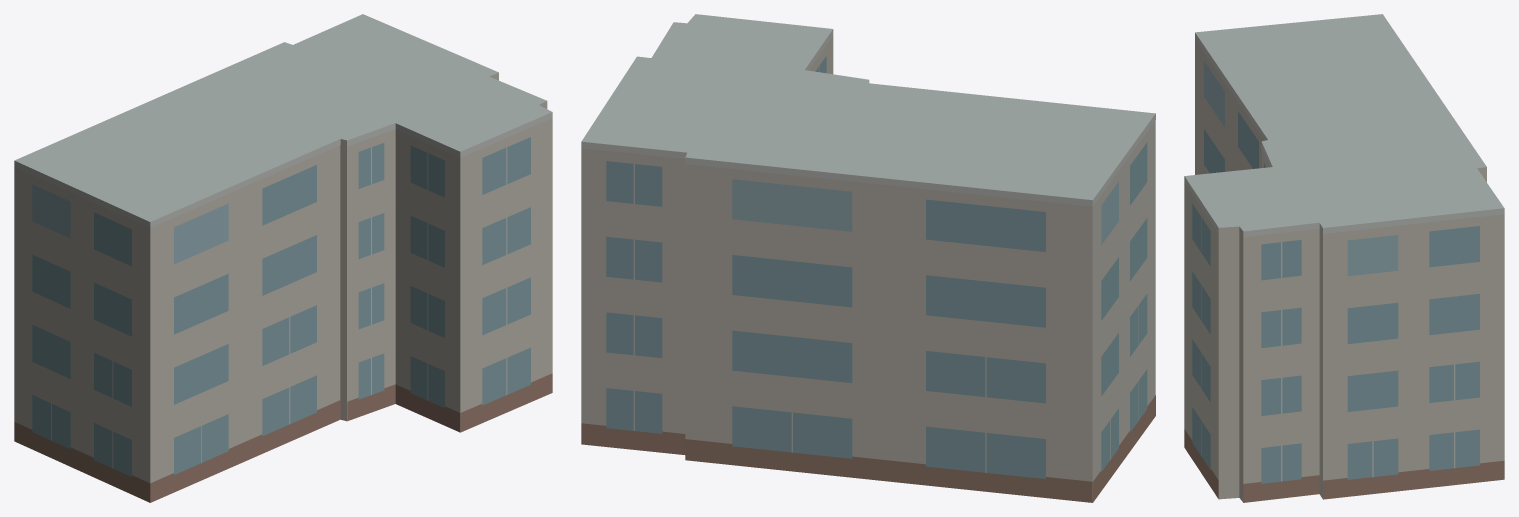
The model's file is survey-upis-32657748.glb.
The picture shows the model from 3 angles, left to right: view 1: azimuth 30°, elevation 25°; view 2: azimuth 150°, elevation 25°; view 3: azimuth 270°, elevation 25°; orthographic projection. The views are drawn at different scales.
Parts seen in each view (by area): view 1: survey-upis-32657748.tmp; view 2: survey-upis-32657748.tmp; view 3: survey-upis-32657748.tmp.
Boxes of the visible parts, bbox=[...] form: survey-upis-32657748.tmp: bbox=[14, 14, 552, 502]; survey-upis-32657748.tmp: bbox=[581, 14, 1155, 502]; survey-upis-32657748.tmp: bbox=[1184, 14, 1504, 502].
Bounding box in the file's own units: 19.48 × 11.33 × 12.12.
